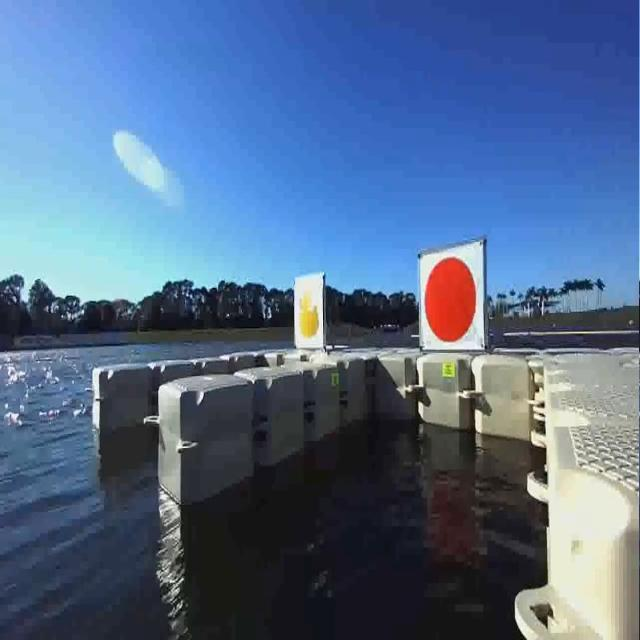red-dot: (418, 249, 484, 345)
yellow-duck: (296, 274, 325, 354)
